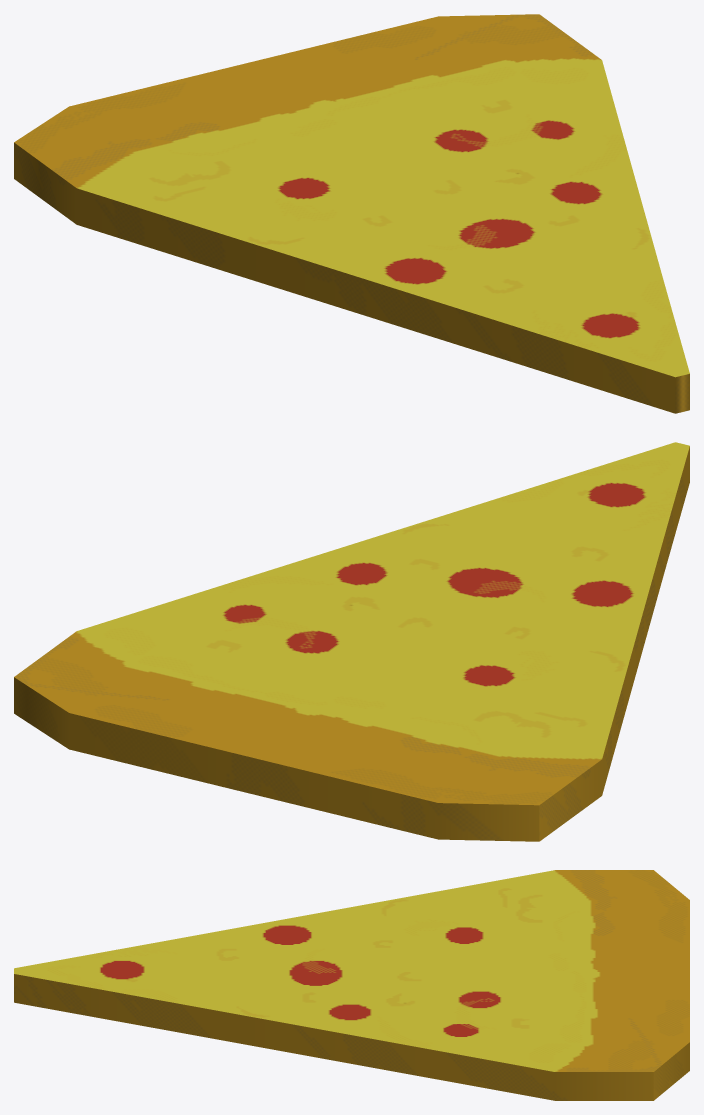
The model's file is pizza slice.fbx.
The picture shows the model from 3 angles, top to bottom: view 1: azimuth 30°, elevation 25°; view 2: azimuth 150°, elevation 25°; view 3: azimuth 270°, elevation 25°; orthographic projection. The views are drawn at different scales.
Parts seen in each view (by area): view 1: pCube1; view 2: pCube1; view 3: pCube1.
Boxes of the visible parts, box(x1,y1,x2,y2) form: pCube1: box(14, 14, 689, 413); pCube1: box(14, 442, 689, 841); pCube1: box(14, 870, 689, 1100).
Bounding box in the file's own units: 0.3109 × 0.0207 × 0.4398.
Materials: 1 (1 with a texture image).
